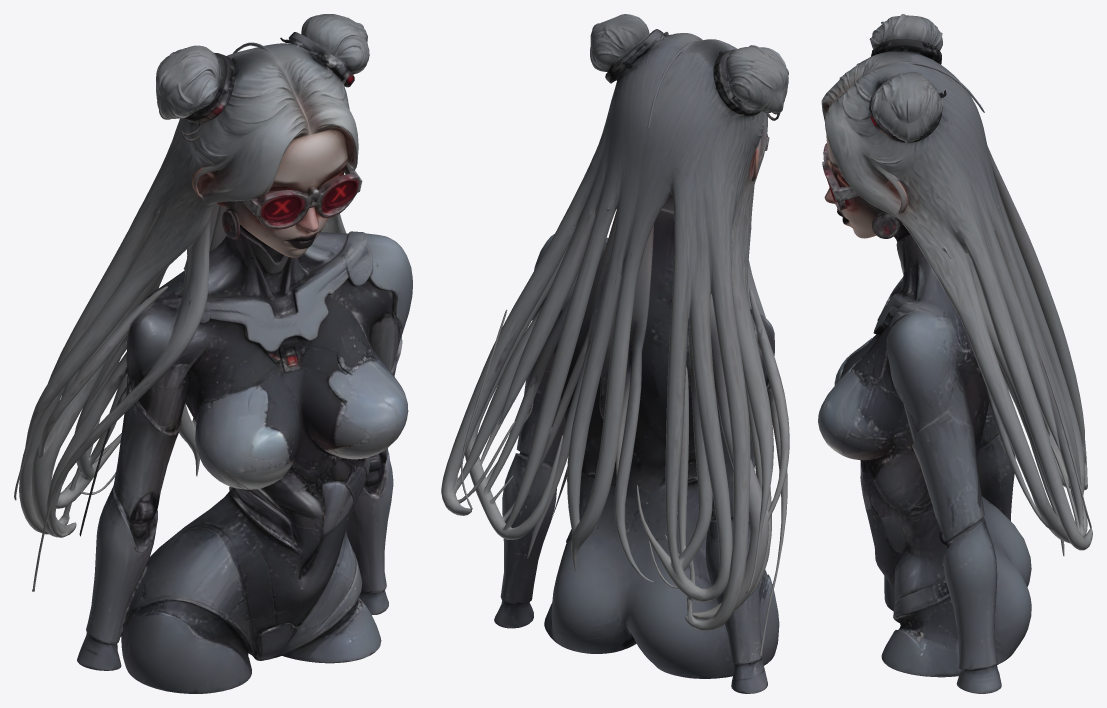
3 renders of one model, left to right at view 1: azimuth 30°, elevation 25°; view 2: azimuth 150°, elevation 25°; view 3: azimuth 270°, elevation 25°, orthographic. The views are drawn at different scales.
Visible parts, largest first — view 1: singer; view 2: singer; view 3: singer.
Part boxes in pixels (box(x1,y1,x2,y2)): singer: box(14, 14, 412, 693); singer: box(441, 14, 789, 693); singer: box(818, 14, 1092, 693).
Bounding box in the file's own units: 0.581 × 1.06 × 0.4597.
1 material, 1 textured.
